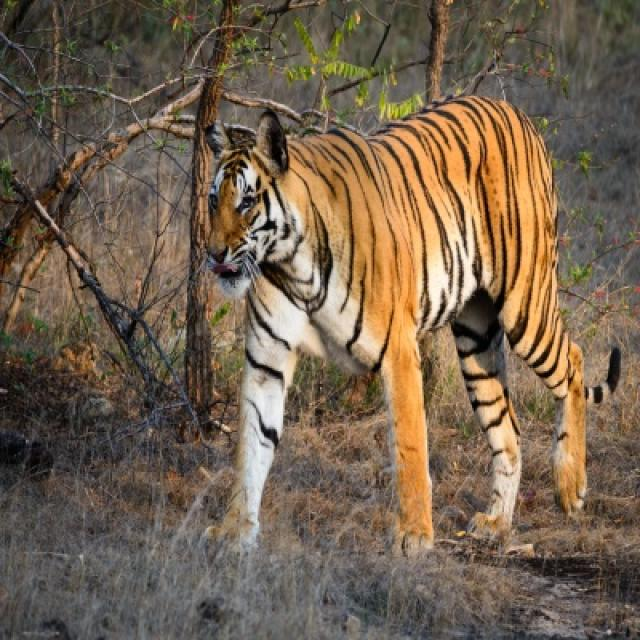Tiger: (206, 90, 589, 548)
